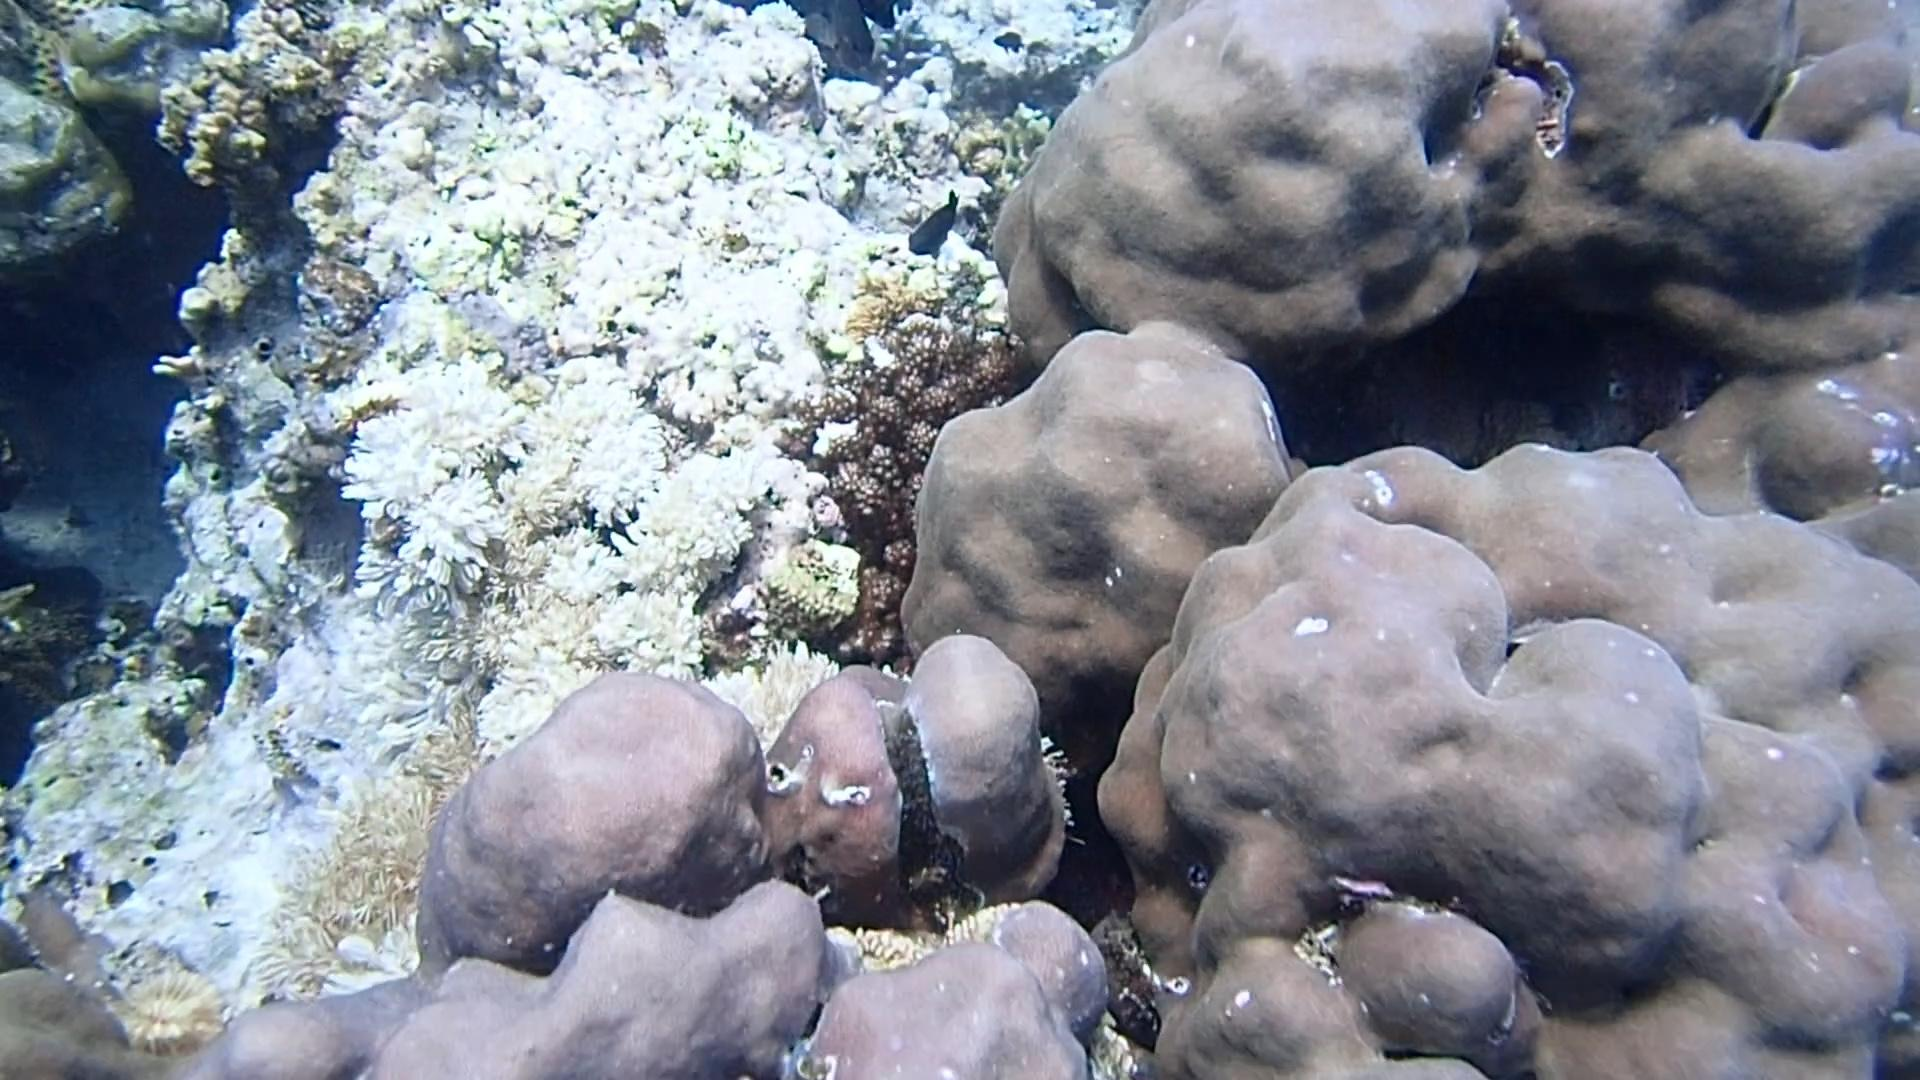Dark Fish: (897, 185, 969, 273), (988, 24, 1027, 55)
